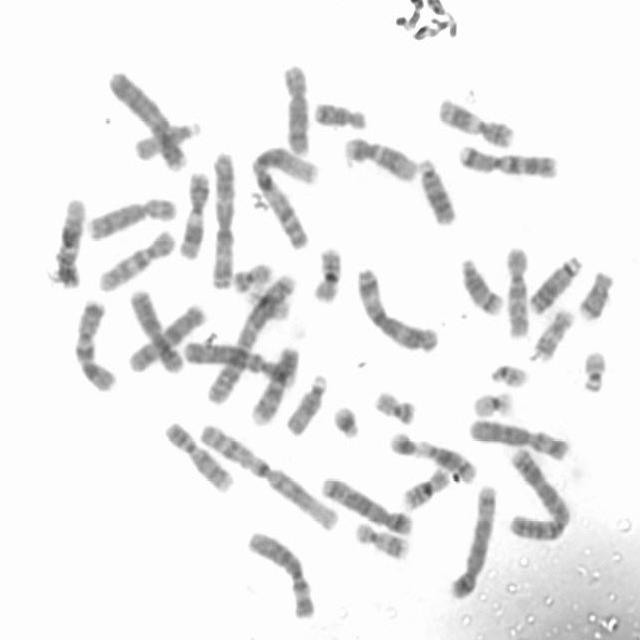A1: (197, 422, 341, 533), (249, 145, 319, 252)
A2: (203, 272, 298, 410), (505, 445, 573, 545)
A3: (356, 266, 442, 356), (210, 149, 234, 290)
B4: (108, 71, 190, 174), (182, 337, 297, 389)
B5: (319, 474, 413, 538), (449, 481, 497, 600)
C10: (94, 229, 177, 294), (504, 243, 532, 339)
C11: (433, 97, 518, 149), (177, 170, 209, 262)
C12: (345, 135, 418, 185), (54, 196, 87, 290)
C6: (245, 530, 316, 619), (467, 418, 571, 463)
C7: (72, 298, 118, 394), (457, 142, 560, 180)
C8: (86, 196, 176, 242), (280, 62, 310, 156)
C9: (161, 418, 234, 494), (249, 344, 299, 427)
D13: (527, 254, 582, 315), (416, 158, 459, 228)
D14: (459, 255, 505, 318), (420, 438, 479, 483)
D15: (130, 119, 202, 162), (283, 373, 327, 439)
E16: (399, 465, 451, 514), (310, 245, 343, 306)
E17: (355, 518, 411, 563), (533, 306, 576, 364)
E18: (578, 269, 615, 322), (312, 99, 369, 132)
F19: (245, 286, 289, 324), (469, 390, 516, 420)
F20: (373, 389, 417, 426), (231, 261, 273, 294)
G21: (330, 404, 363, 441), (387, 429, 423, 461)
G22: (579, 349, 609, 394), (490, 361, 528, 390)
X: (125, 301, 209, 373), (129, 286, 185, 375)
